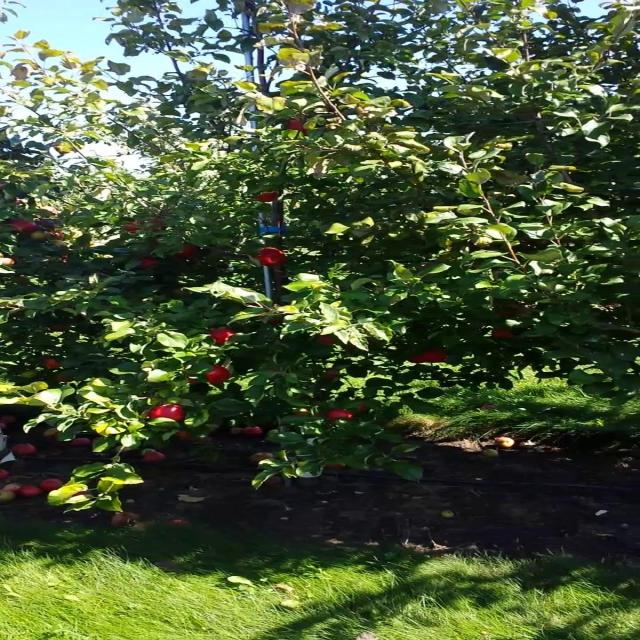apple: (241, 296, 293, 328), (198, 364, 235, 385), (255, 248, 290, 268), (148, 404, 185, 422), (205, 328, 240, 346), (426, 348, 452, 365), (6, 220, 39, 233), (490, 328, 521, 341), (326, 412, 356, 425), (177, 244, 201, 259), (255, 192, 283, 204), (291, 120, 311, 135), (404, 352, 427, 365), (42, 356, 64, 369), (141, 256, 162, 269), (319, 336, 341, 348), (35, 220, 57, 232), (127, 220, 144, 234), (291, 408, 313, 417), (326, 368, 341, 381), (28, 232, 50, 240), (49, 324, 71, 332), (355, 404, 372, 414), (148, 220, 169, 228), (6, 256, 20, 267), (56, 376, 75, 384), (56, 232, 75, 240)
